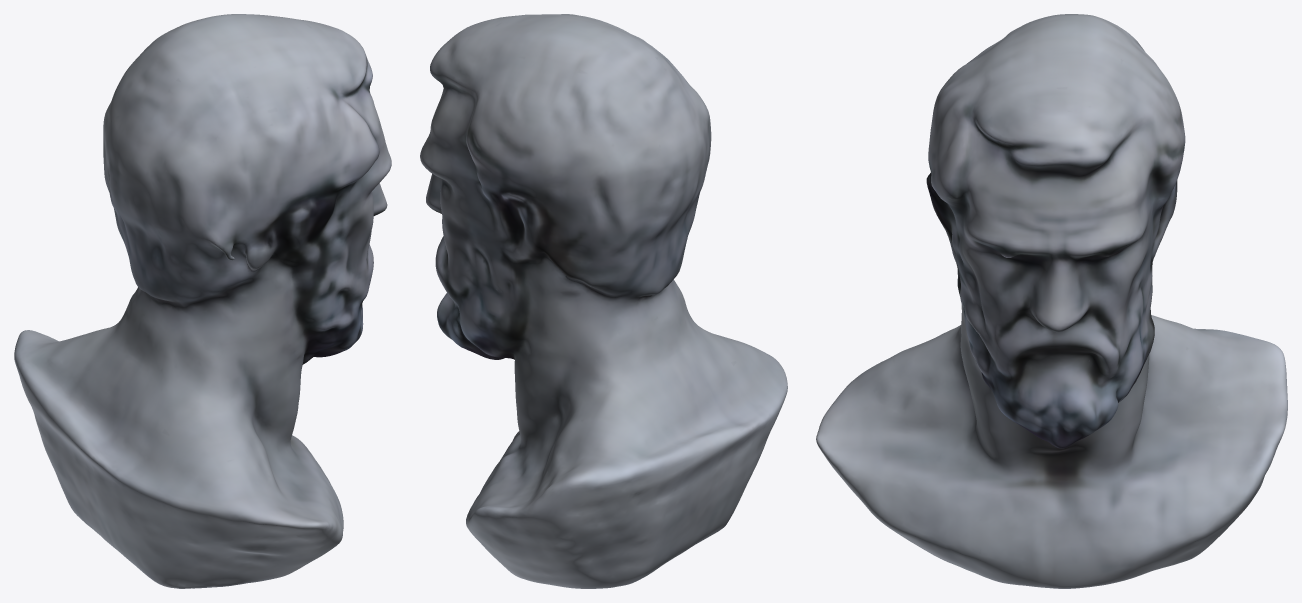
The model's file is a259c117950f_Generates_a_Greek_style_bust_0_glb.glb.
The picture shows the model from 3 angles, left to right: view 1: azimuth 30°, elevation 25°; view 2: azimuth 150°, elevation 25°; view 3: azimuth 270°, elevation 25°; orthographic projection. The views are drawn at different scales.
Visible parts, largest first — view 1: world; view 2: world; view 3: world.
Boxes of the visible parts, left/top/right/bottom form: world: left=14, top=14, right=391, bottom=588; world: left=420, top=14, right=787, bottom=588; world: left=816, top=14, right=1287, bottom=588.
Size of the model in its own units: 0.3462 by 0.5391 by 0.4352.
1 material, 1 textured.
